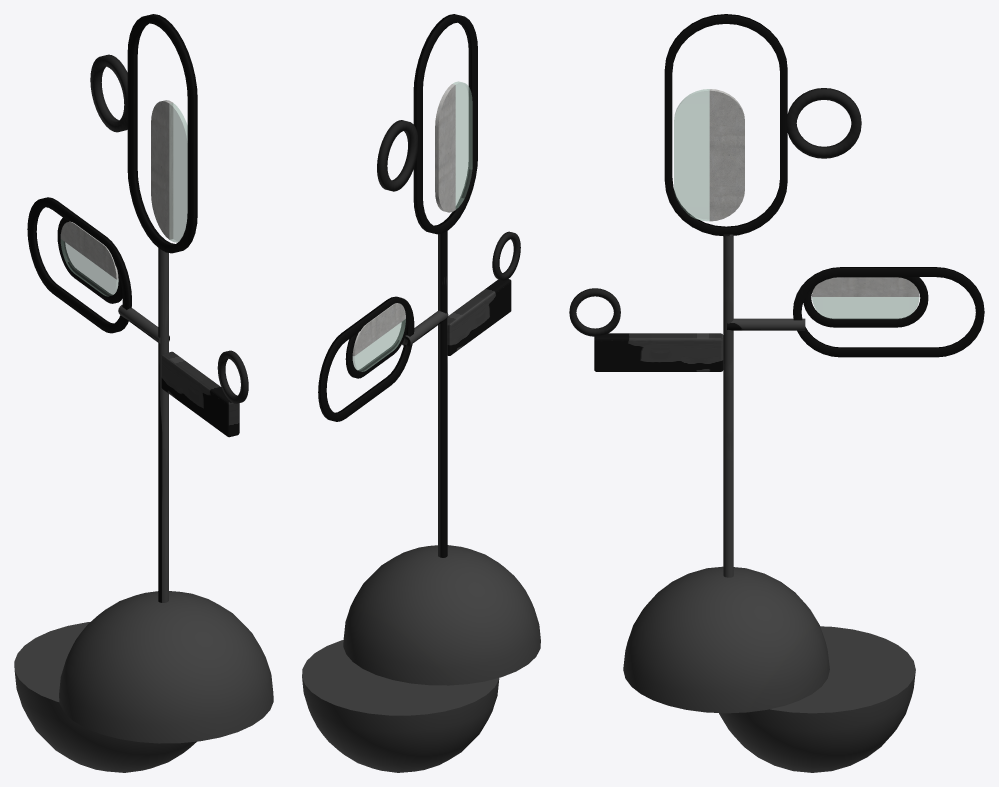
Rendered from A_Sculpture.glb.
3 views of the same model, side by side, from view 1: azimuth 30°, elevation 25°; view 2: azimuth 150°, elevation 25°; view 3: azimuth 270°, elevation 25° (orthographic). The views are drawn at different scales.
Parts seen in each view (by area): view 1: Cube.025, Cube.026, Cube.016, stick, Plane.002, Cube.018, Cube.023, Cube.024, Circle.007, Cube.015, Cube.013, Cube.019 (+2 smaller); view 2: Cube.025, Cube.026, Cube.016, stick, Cube.018, Plane.002, Cube.024, Cube.023, Circle.007, Cube.015, Cube.013, Cube.019 (+2 smaller); view 3: Cube.025, Cube.026, Cube.016, Plane.002, Cube.018, Cube.024, Cube.023, stick, Circle.007, Cube.013, Cube.015, Cube.019 (+2 smaller).
Part boxes in pixels (box(x1,y1,x2,y2)): Cube.025: box(59, 591, 273, 743); Cube.026: box(14, 622, 196, 772); Cube.016: box(127, 14, 197, 253); stick: box(158, 248, 168, 602); Plane.002: box(161, 351, 239, 437); Cube.018: box(27, 197, 131, 333); Cube.023: box(169, 103, 187, 242); Cube.024: box(151, 100, 172, 239); Circle.007: box(90, 54, 127, 132); Cube.015: box(60, 221, 118, 279); Cube.013: box(60, 239, 118, 296); Cube.019: box(57, 218, 122, 303); Cube.025: box(343, 545, 540, 685); Cube.026: box(302, 640, 499, 772); Cube.016: box(413, 14, 477, 234); stick: box(438, 231, 447, 557); Cube.018: box(318, 297, 414, 421); Plane.002: box(447, 279, 511, 355); Cube.024: box(435, 84, 455, 212); Cube.023: box(453, 81, 472, 209); Circle.007: box(377, 120, 417, 191); Cube.015: box(352, 303, 405, 356); Cube.013: box(352, 319, 405, 371); Cube.019: box(345, 296, 408, 378); Cube.025: box(623, 566, 829, 713); Cube.026: box(719, 626, 915, 772); Cube.016: box(664, 14, 787, 236); Plane.002: box(594, 333, 723, 371); Cube.018: box(793, 267, 984, 357); Cube.024: box(709, 89, 744, 221); Cube.023: box(674, 89, 709, 221); stick: box(723, 234, 733, 577); Circle.007: box(786, 88, 861, 158); Cube.013: box(812, 297, 919, 318); Cube.015: box(812, 277, 919, 296); Cube.019: box(803, 269, 928, 327).
Bounding box in the file's own units: 0.2569 × 1.02 × 0.5157.
Materials: 5 (5 with a texture image).
